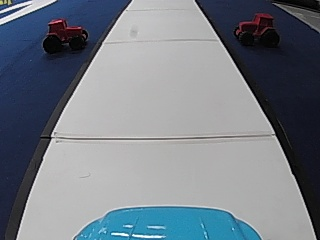tractor: (41, 15, 88, 55), (231, 10, 279, 48)
